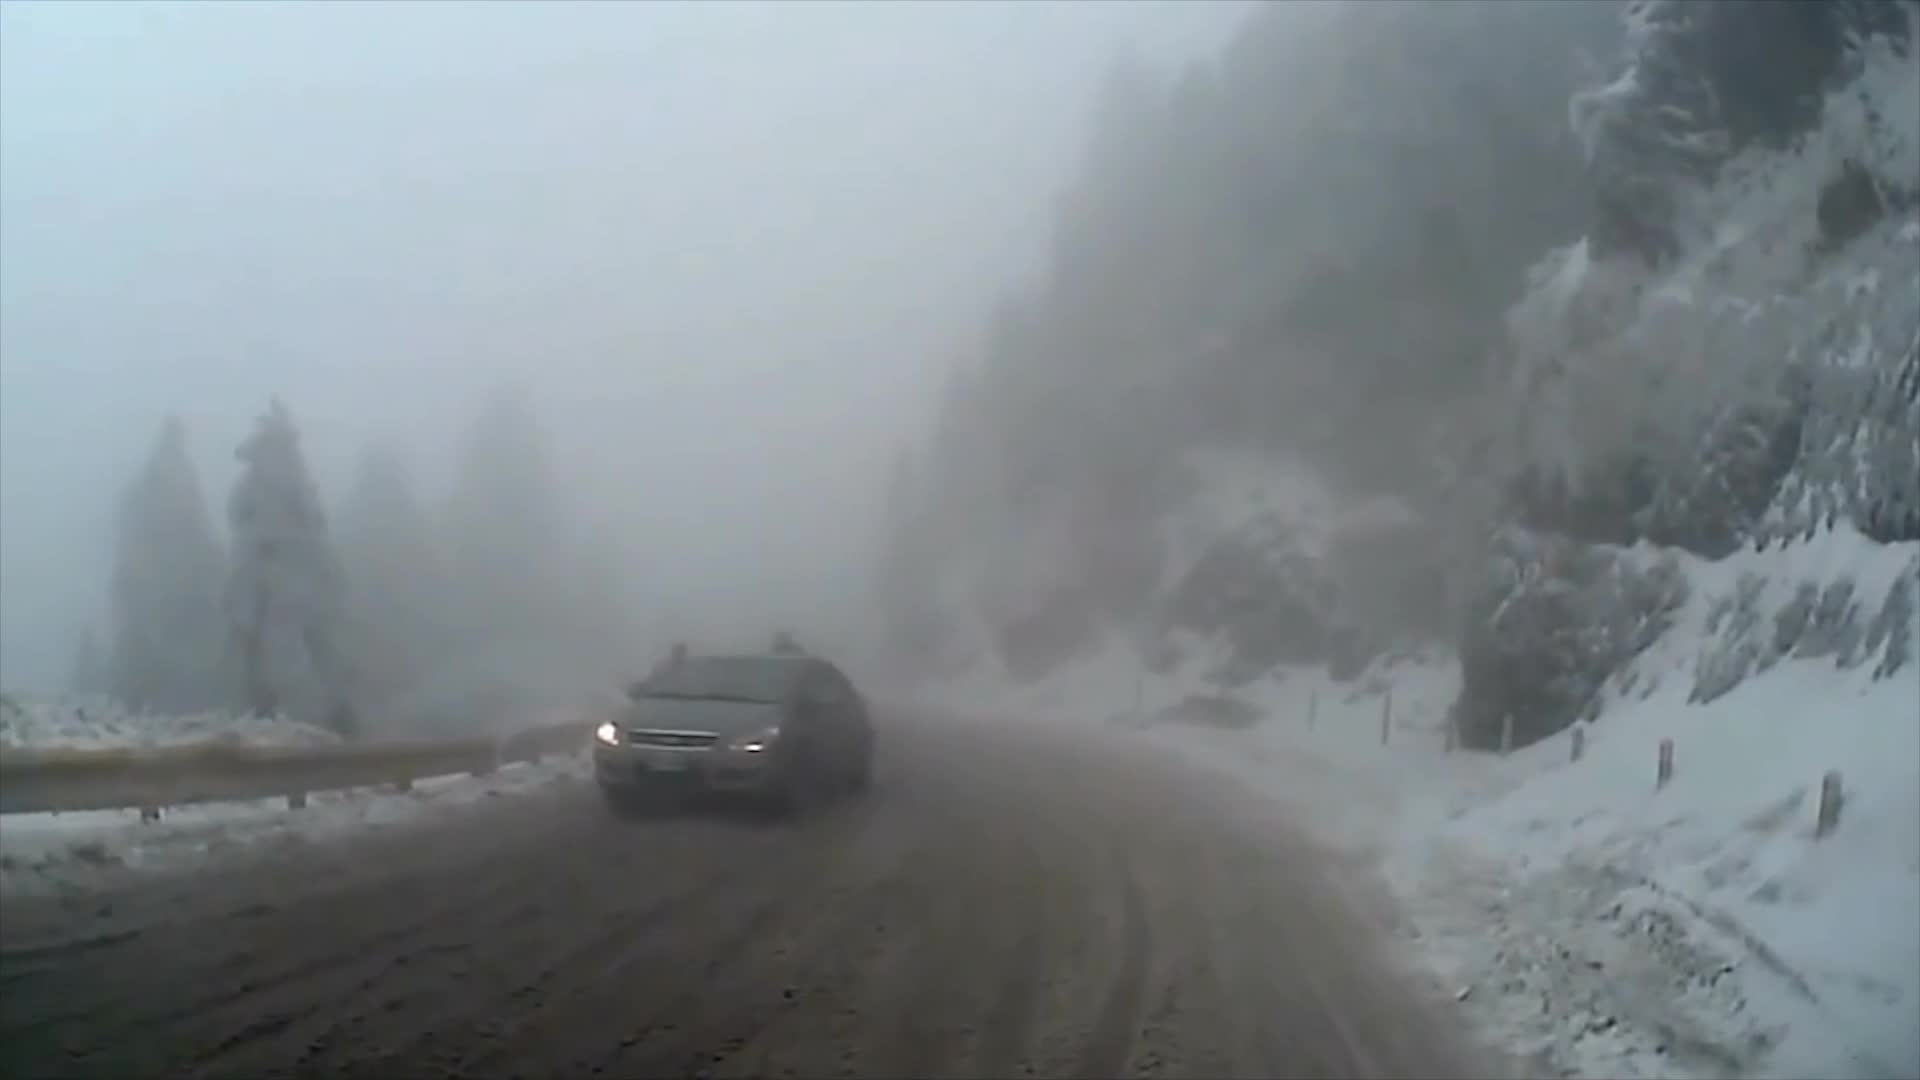vehicle: (592, 649, 872, 824)
